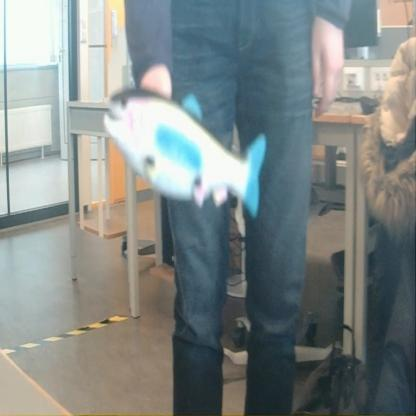rubberfish: (102, 78, 270, 226)
